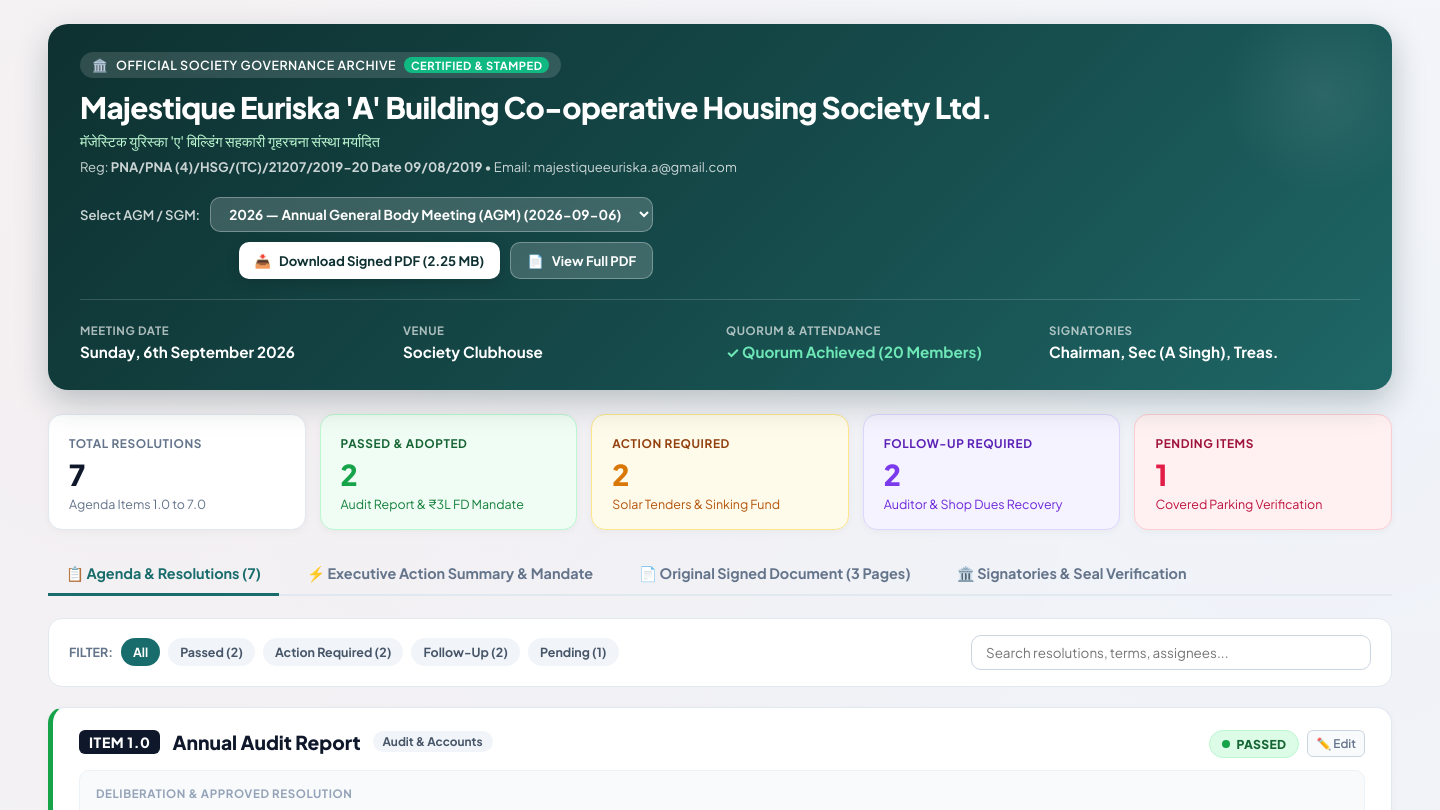
AgmMeetingTracker Component › filters resolutions via search input
Type "Solar" into the field with placeholder "Search resolutions, terms, assignees...".
click(1171, 652); type("Solar")  # box 971,635 -> 1371,670
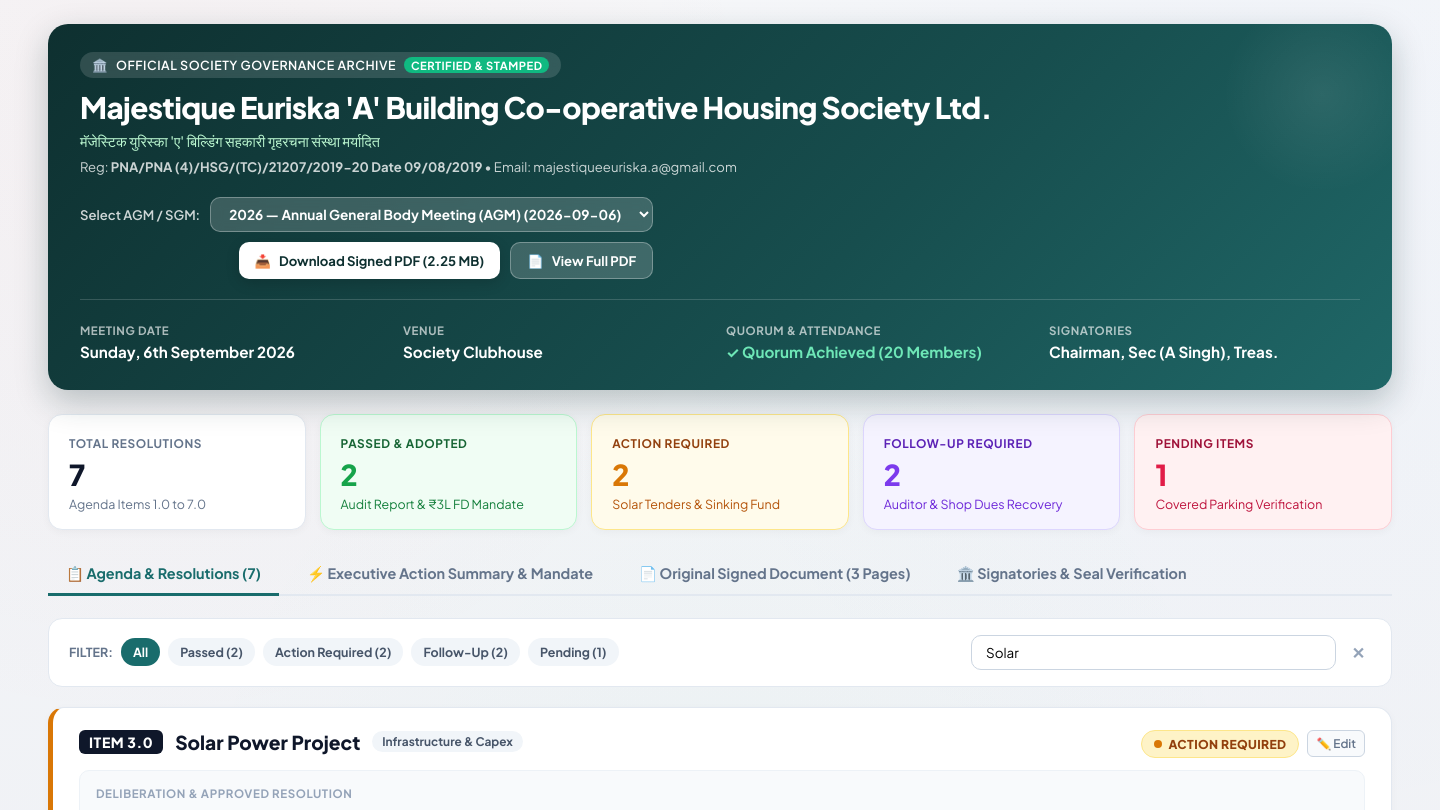
Check: the heading "Solar Power Project" is shown, box 175,730 -> 360,754
Check: the heading "Annual Audit Report" is gone
